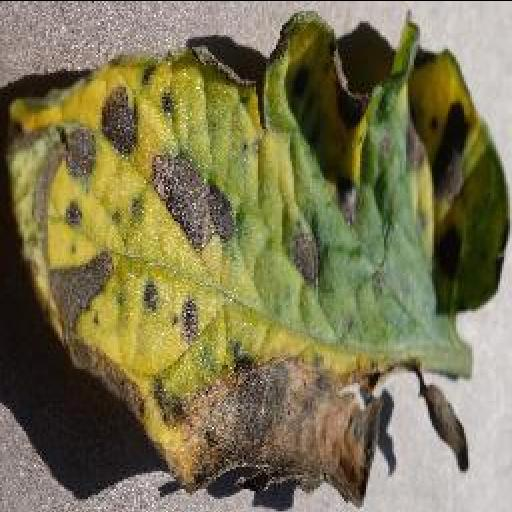Early Blight: (12, 14, 510, 504)
